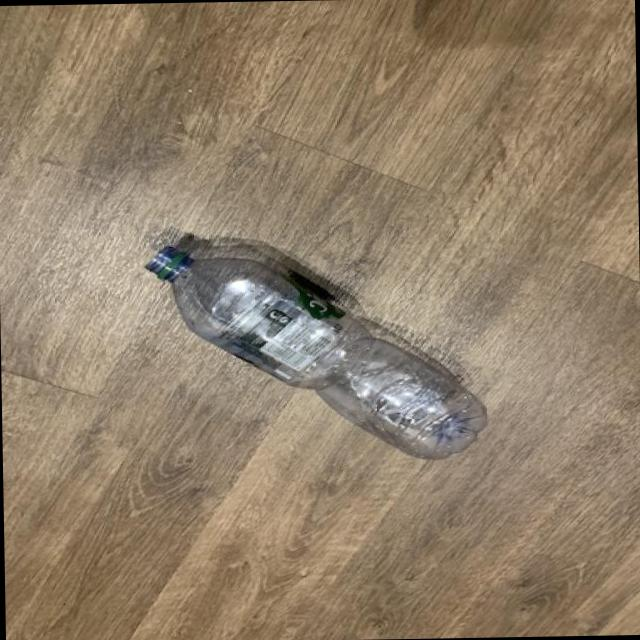plastic_bottle: (142, 239, 488, 464)
